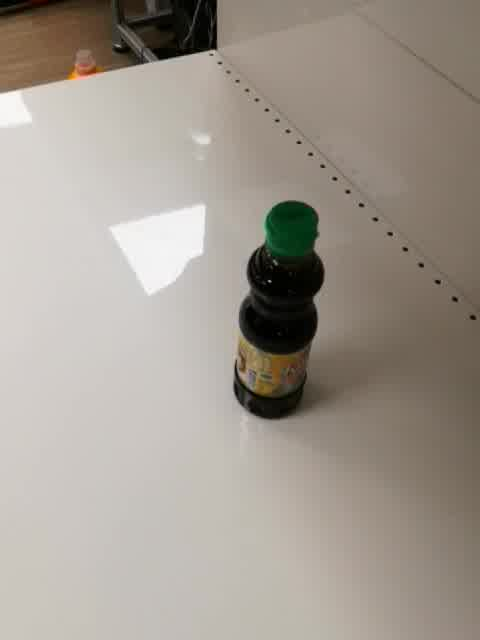cookingoil: (230, 197, 327, 424)
